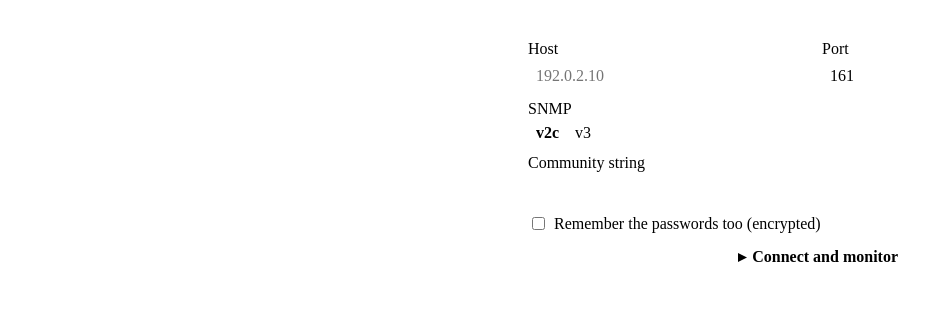
Test case: InterfaceTrafficPane › refuses to connect without a host
Click the button "Connect and monitor": (818, 257) 724,243 -> 912,271
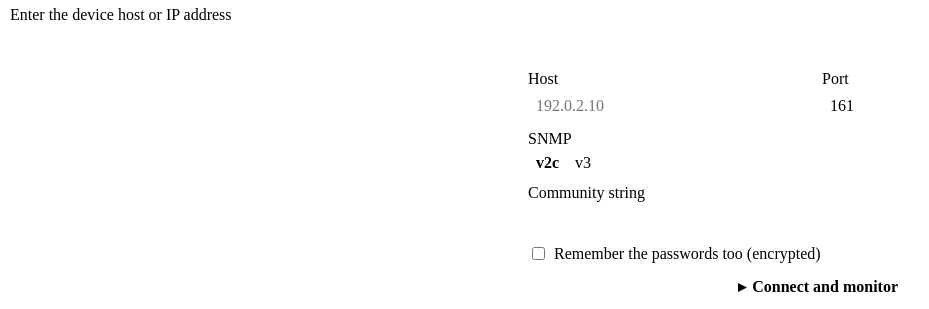
Expected: the message shows "Enter the device host", 10,6 -> 232,23
